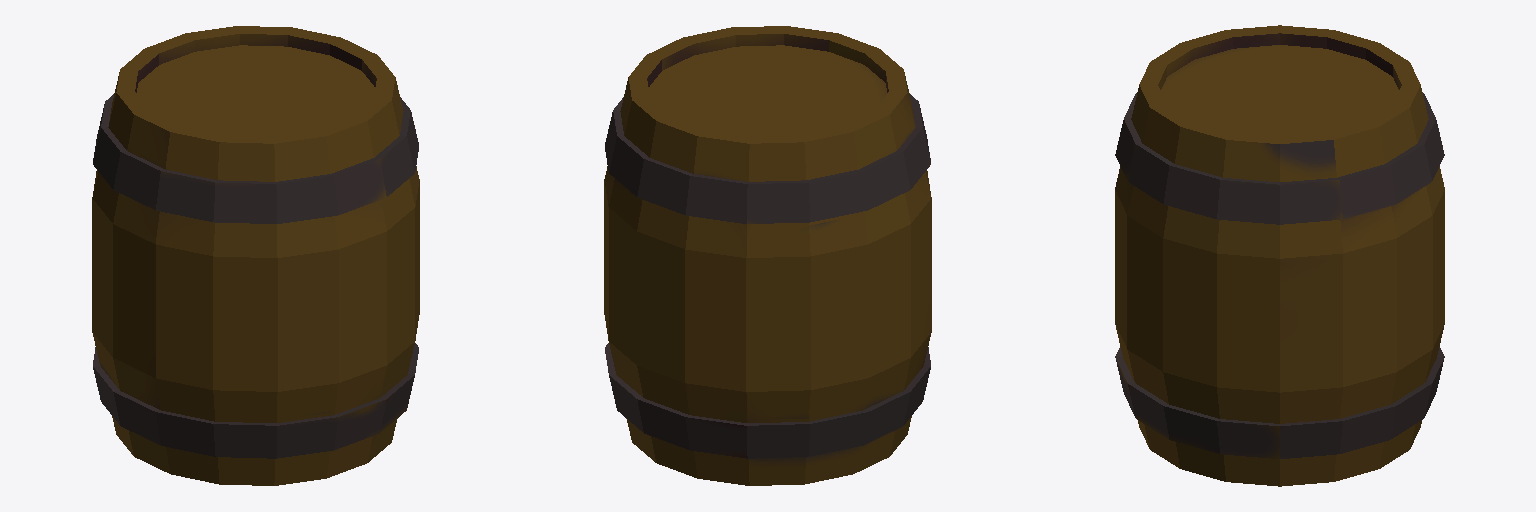
3 renders of one model, left to right at view 1: azimuth 30°, elevation 25°; view 2: azimuth 150°, elevation 25°; view 3: azimuth 270°, elevation 25°, orthographic.
Parts seen in each view (by area): view 1: Cylinder; view 2: Cylinder; view 3: Cylinder.
Boxes of the visible parts, x1=… form: Cylinder: x1=92, y1=26, x2=419, y2=485; Cylinder: x1=604, y1=26, x2=931, y2=485; Cylinder: x1=1115, y1=25, x2=1444, y2=486.
Bounding box in the file's own units: 2 × 2.29 × 2.
Materials: 1 (1 with a texture image).